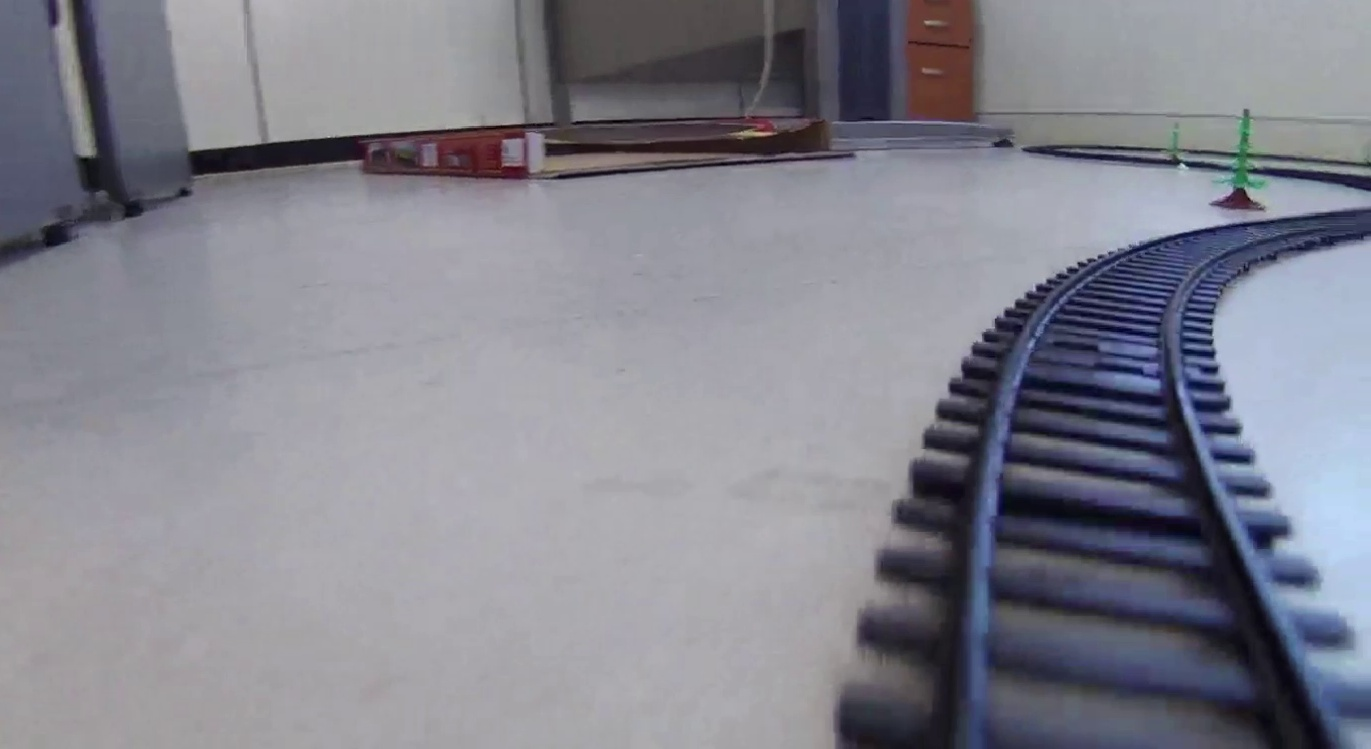tree: (1207, 104, 1270, 212)
